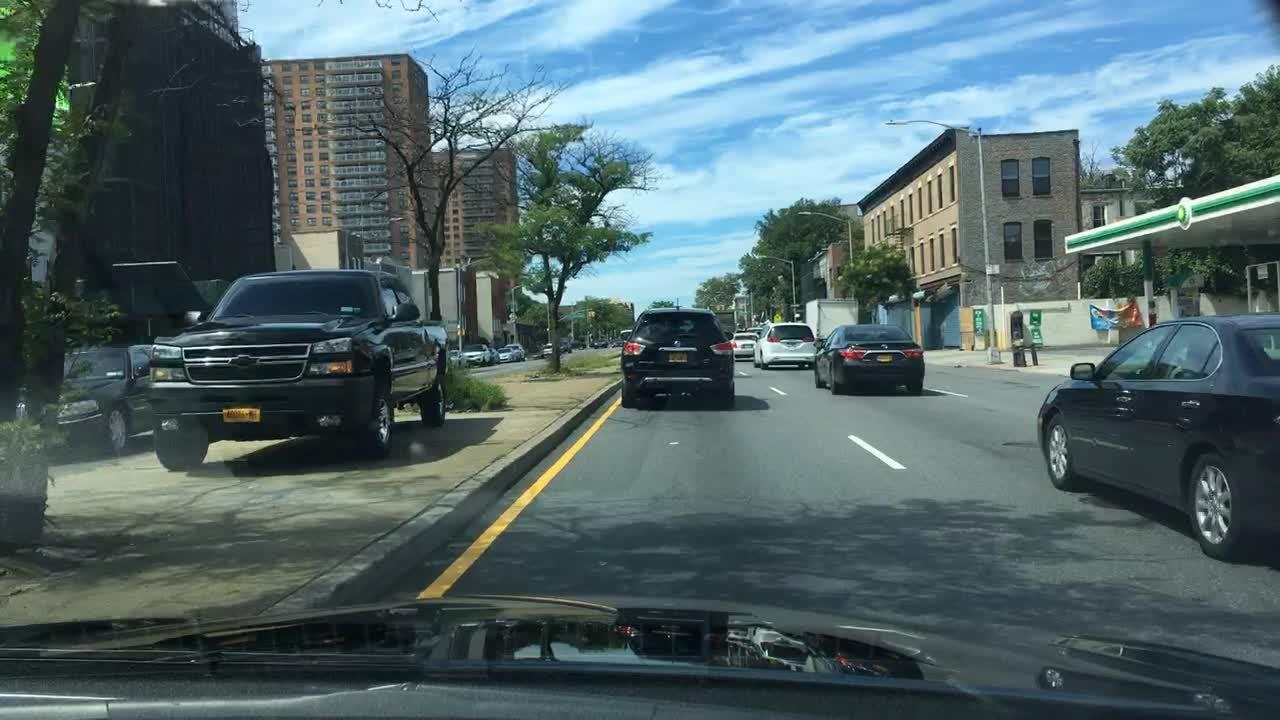chevrolet: (224, 351, 261, 373)
